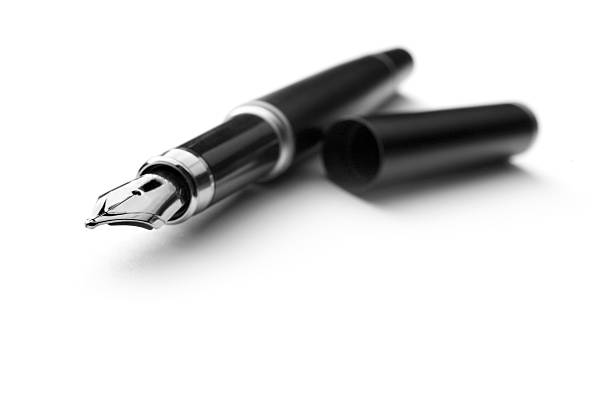pen: (79, 36, 544, 242)
